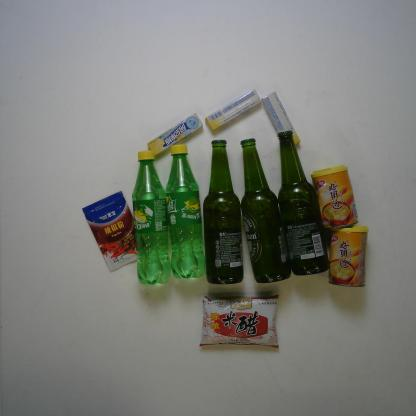Alcohol: (275, 129, 331, 276), (238, 138, 291, 284), (203, 138, 247, 288)
Candy: (204, 85, 259, 132), (146, 113, 203, 157), (261, 92, 300, 146)
Canned Food: (312, 165, 359, 230), (328, 225, 370, 289)
Drink: (128, 150, 171, 287), (164, 144, 205, 278)
Seasoner: (83, 191, 144, 273), (196, 290, 280, 349)
